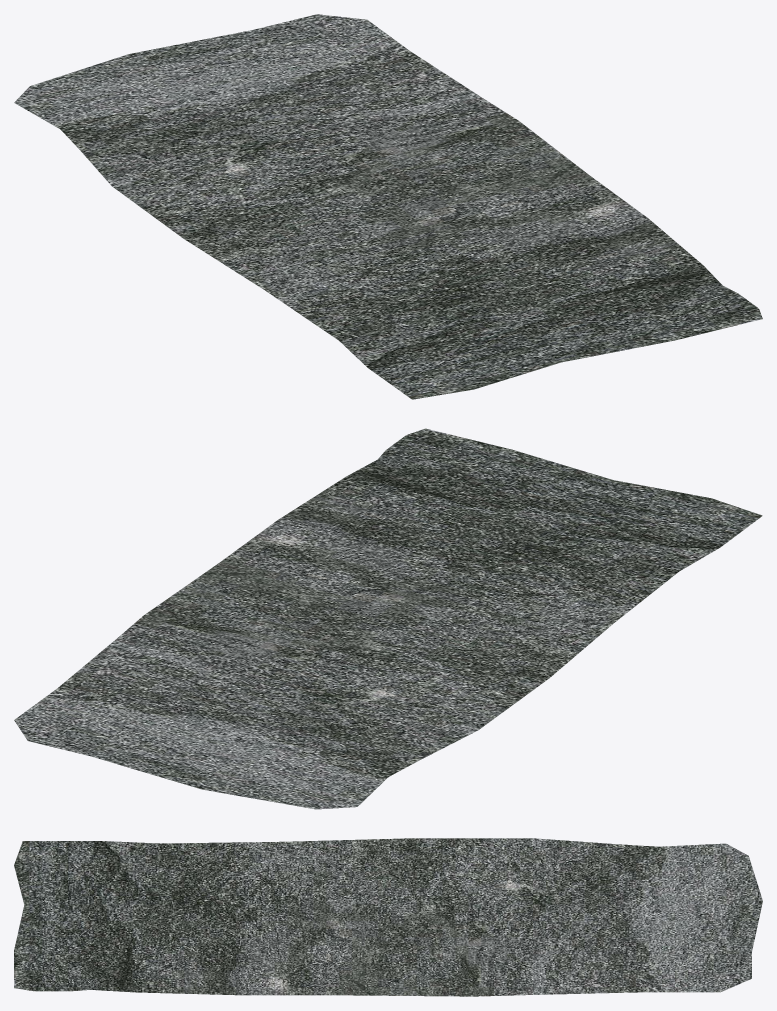
The model's file is qingshiban-79930968.glb.
3 views of the same model, one above another, from view 1: azimuth 30°, elevation 25°; view 2: azimuth 150°, elevation 25°; view 3: azimuth 270°, elevation 25° (orthographic). The views are drawn at different scales.
Parts seen in each view (by area): view 1: root; view 2: root; view 3: root.
Boxes of the visible parts, x1,y1,x2,y2 form: root: (14,14,762,399); root: (14,428,762,809); root: (14,838,762,996).
Bounding box in the file's own units: 0.3 × 3.67e-17 × 0.6.
Materials: 1 (1 with a texture image).
